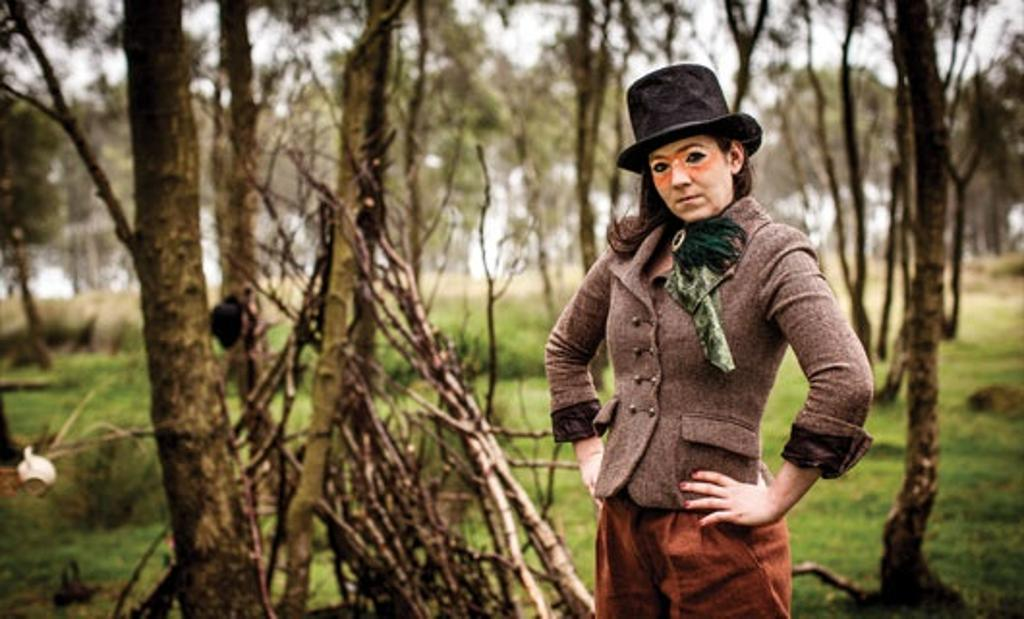face: (656, 112, 726, 214)
